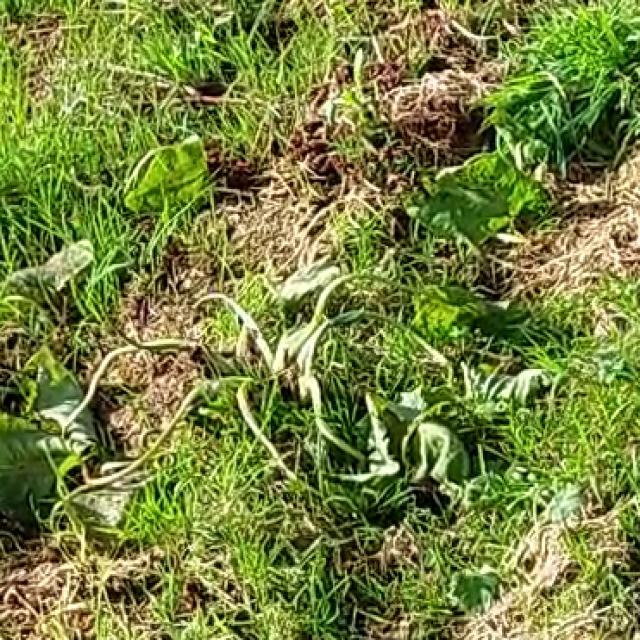organic waste: (0, 118, 573, 549)
